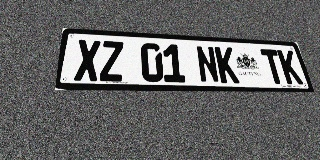0: (140, 43, 164, 82)
1: (162, 44, 186, 82)
K: (214, 46, 240, 83), (277, 50, 304, 84)
N: (195, 46, 220, 83)
T: (260, 49, 286, 84)
X: (74, 39, 101, 81)
Z: (100, 41, 123, 82)
